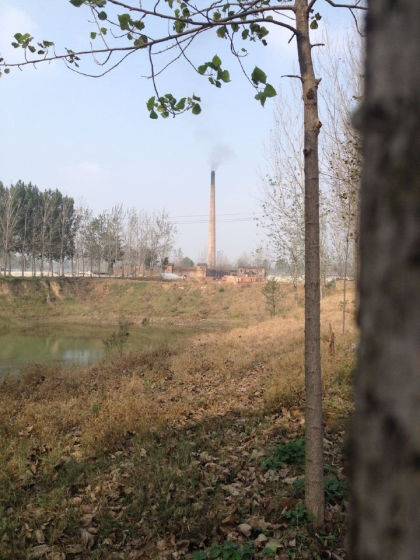dust: (193, 135, 239, 175)
